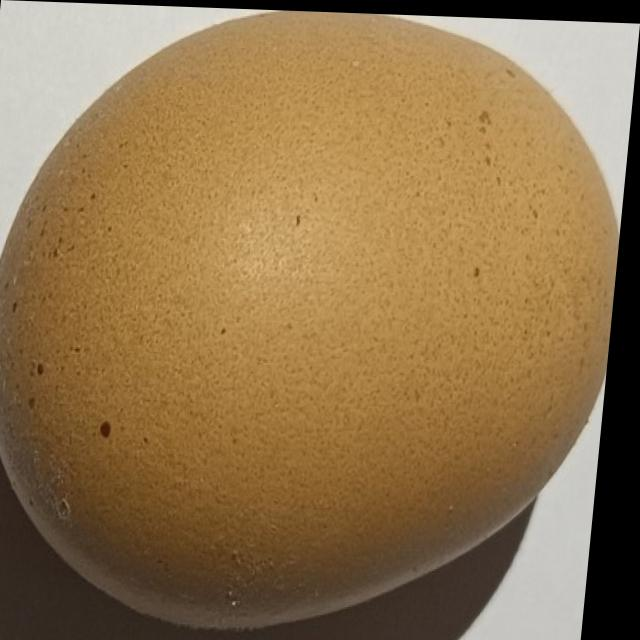unfresh: (0, 2, 640, 640)
